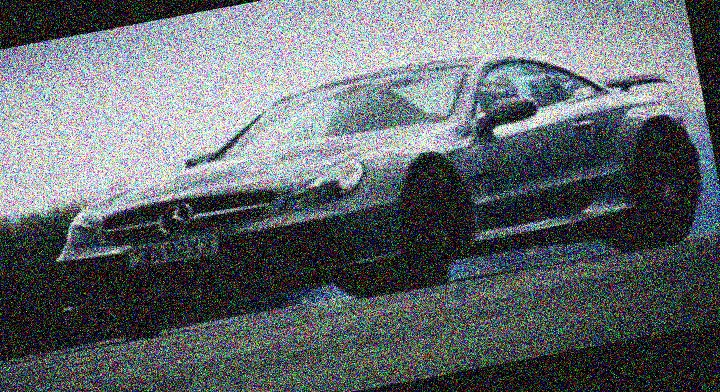car: (0, 6, 720, 392)
